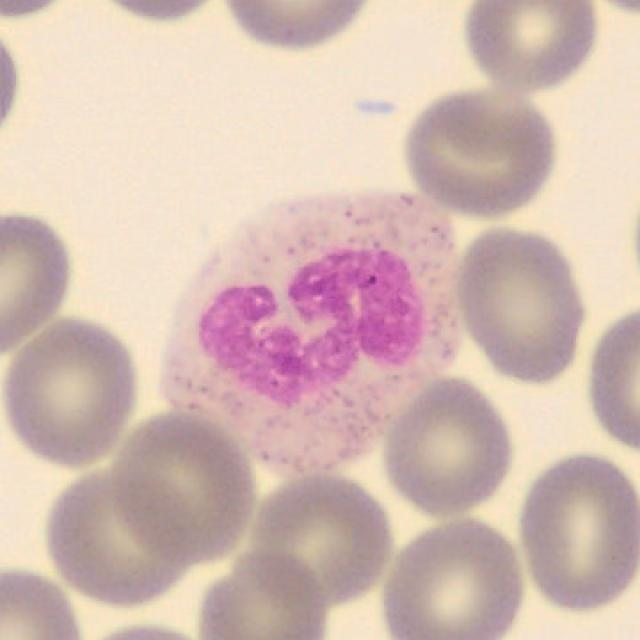Neutrofilo segmentado: (158, 190, 462, 476)
